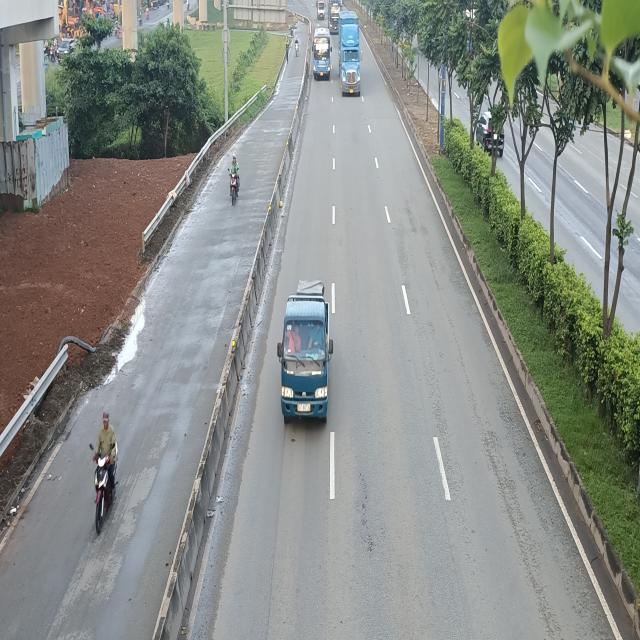coach: (312, 29, 332, 82)
container: (340, 14, 364, 100)
truck: (276, 281, 334, 424)
